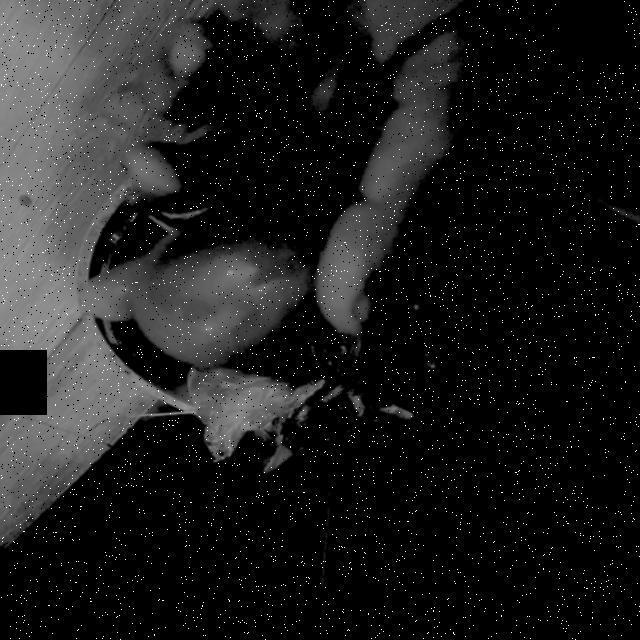egg: (127, 199, 350, 375)
